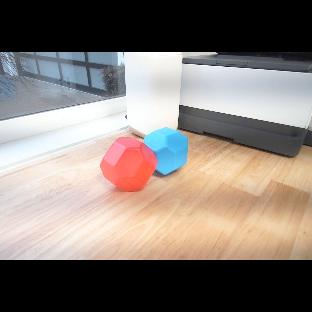V5_BLUE: (147, 128, 190, 174)
V5_RED: (100, 135, 155, 195)
